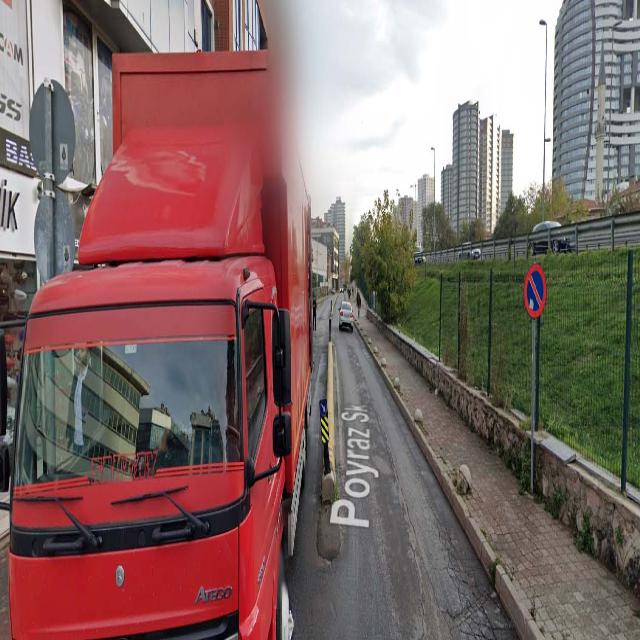parkyasak: (525, 265, 545, 318)
